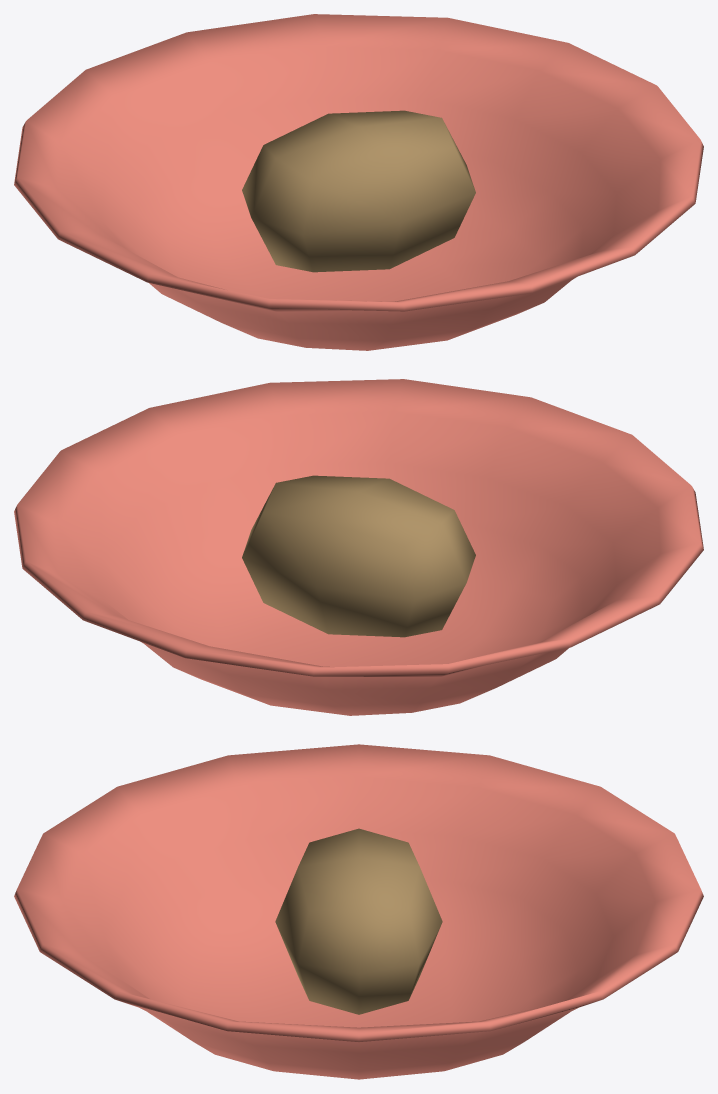
Rendered from Vasilha com Paes.fbx.
3 views of the same model, one above another, from view 1: azimuth 30°, elevation 25°; view 2: azimuth 150°, elevation 25°; view 3: azimuth 270°, elevation 25° (orthographic).
Visible parts, largest first — view 1: Prato, Pao; view 2: Prato, Pao; view 3: Prato, Pao.
Part boxes in pixels (x1,y1,x2,y2): Prato: (14,14,703,350); Pao: (242,110,475,272); Prato: (14,379,703,715); Pao: (242,475,475,637); Prato: (14,744,703,1079); Pao: (275,828,442,1014).
Bounding box in the file's own units: 78.1 × 20.78 × 78.1.
